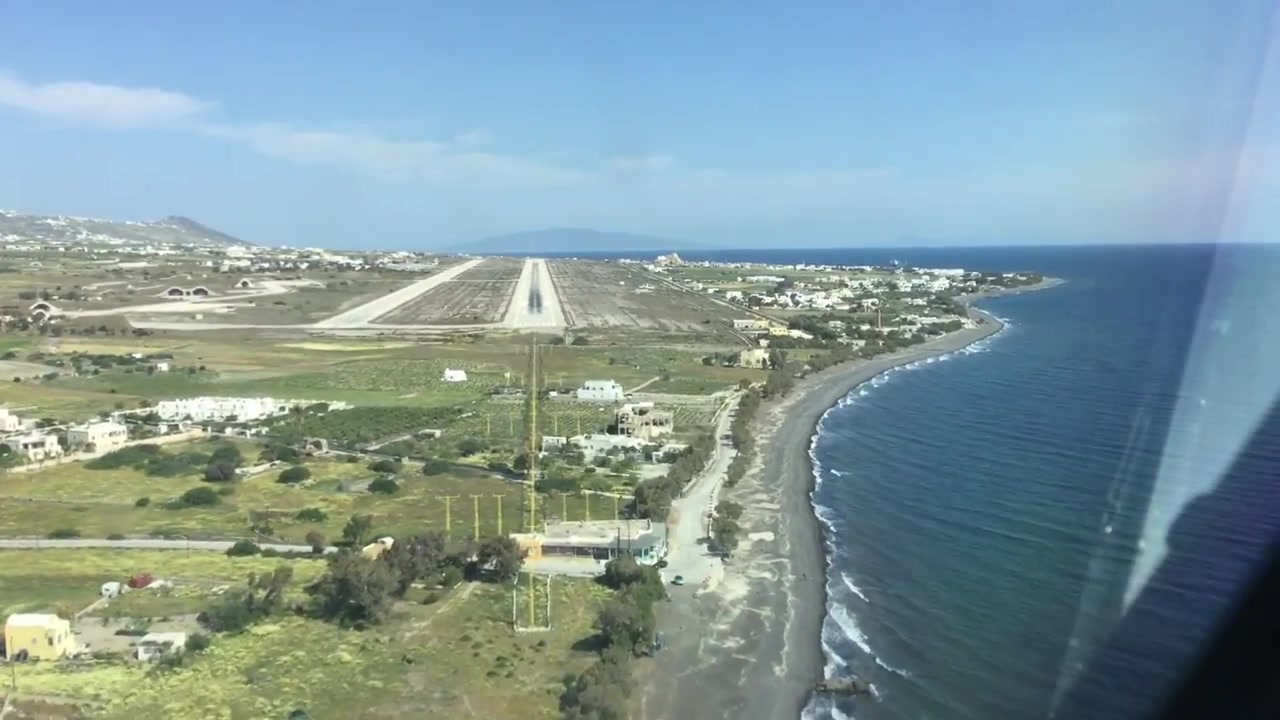entrance: (512, 321, 555, 329)
runway: (327, 260, 484, 328), (501, 260, 565, 330)
